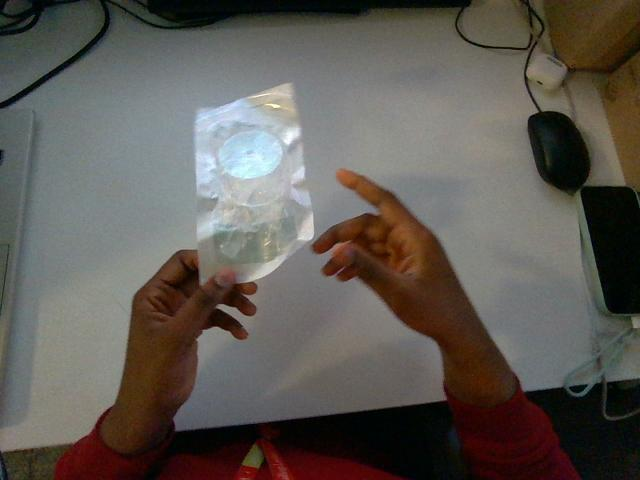gallipot: (195, 84, 313, 281)
